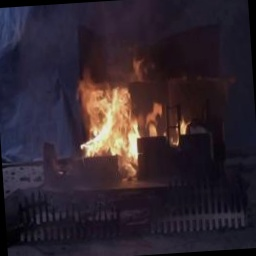fire: (72, 42, 161, 169)
